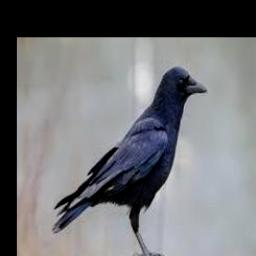Crow: (51, 66, 207, 256)
